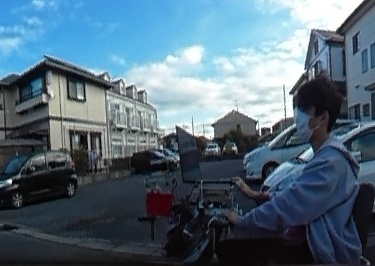person: (212, 75, 356, 266)
